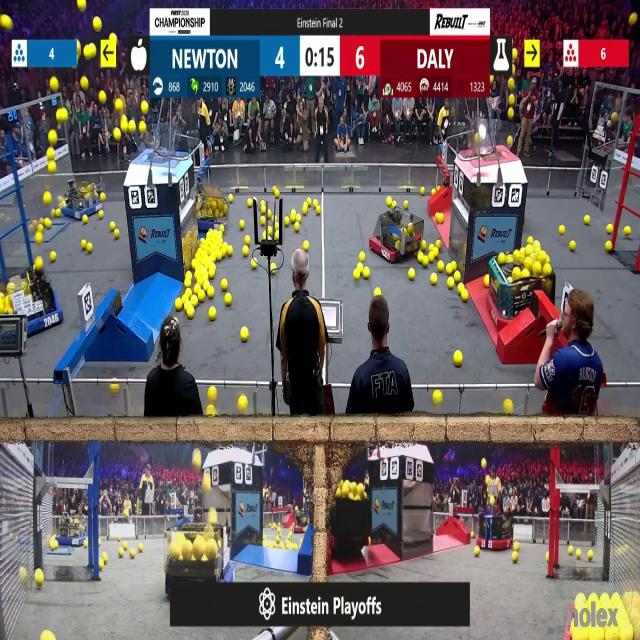ball_airborne: (203, 476, 212, 494), (194, 448, 202, 466), (209, 510, 218, 526), (58, 108, 68, 122), (49, 76, 58, 90), (1, 14, 10, 28), (48, 131, 56, 146), (90, 43, 98, 57), (113, 129, 121, 142), (35, 256, 43, 269), (129, 119, 137, 132), (94, 19, 102, 32), (46, 147, 54, 159), (47, 162, 55, 174), (99, 92, 107, 104), (80, 77, 88, 89), (630, 12, 638, 24), (108, 34, 116, 46), (115, 99, 122, 112), (139, 120, 146, 132), (120, 116, 126, 130), (77, 0, 85, 10), (512, 47, 518, 60), (36, 234, 43, 245), (507, 108, 513, 120), (142, 102, 148, 114), (44, 191, 50, 203), (507, 78, 514, 88), (507, 96, 514, 106), (482, 458, 488, 469), (472, 135, 479, 144), (506, 137, 512, 146), (485, 477, 491, 485), (490, 496, 495, 504), (512, 64, 515, 75), (490, 75, 494, 82)
ball_ground: (35, 569, 44, 586), (503, 401, 512, 417), (238, 396, 248, 410), (432, 391, 441, 405), (208, 387, 217, 401), (454, 351, 462, 366), (241, 327, 249, 341), (447, 263, 455, 275), (209, 308, 216, 321), (42, 631, 52, 640), (208, 269, 216, 280), (224, 293, 231, 305), (186, 307, 193, 319), (175, 300, 182, 312), (430, 274, 437, 286), (439, 262, 446, 274), (190, 294, 197, 305), (207, 407, 214, 418), (50, 538, 57, 549), (199, 291, 206, 302), (513, 552, 519, 564), (461, 290, 467, 302), (362, 269, 369, 279), (243, 246, 250, 256), (354, 271, 361, 281), (448, 278, 455, 288), (606, 223, 613, 233), (454, 273, 461, 283), (435, 212, 442, 222), (191, 284, 198, 294), (259, 205, 266, 215), (421, 241, 428, 251), (485, 276, 491, 287), (221, 280, 227, 291), (208, 287, 214, 298), (110, 384, 118, 392), (259, 216, 266, 225), (457, 283, 464, 292), (410, 270, 416, 280), (226, 246, 232, 256), (570, 241, 576, 251), (473, 545, 479, 555), (559, 224, 565, 234), (49, 252, 55, 262), (605, 242, 611, 252), (304, 241, 310, 251), (358, 252, 364, 262), (625, 225, 631, 235), (99, 560, 105, 570), (270, 264, 276, 274), (44, 218, 50, 228), (216, 251, 222, 261), (433, 248, 439, 258), (38, 221, 44, 231), (184, 287, 191, 295), (184, 279, 191, 287), (259, 234, 266, 242), (375, 287, 381, 296), (585, 215, 591, 224), (80, 241, 86, 250), (386, 198, 392, 207), (131, 550, 137, 559), (284, 217, 290, 226), (303, 206, 309, 215), (110, 221, 116, 230), (56, 209, 62, 218), (244, 237, 250, 246), (589, 552, 594, 562), (88, 243, 93, 253), (418, 252, 423, 262), (103, 553, 108, 563), (290, 210, 295, 220), (82, 215, 88, 223), (293, 222, 299, 230), (185, 272, 191, 280), (435, 240, 441, 248), (204, 281, 210, 289), (268, 210, 274, 218), (274, 232, 280, 240), (100, 192, 106, 200), (316, 207, 321, 216), (118, 550, 123, 559), (114, 231, 119, 240), (568, 545, 573, 554), (269, 225, 274, 234), (423, 255, 428, 264), (358, 264, 363, 273), (275, 190, 281, 197), (420, 187, 426, 194), (99, 211, 104, 219), (240, 220, 245, 228), (139, 543, 144, 551), (576, 550, 580, 560), (247, 200, 252, 208), (83, 539, 88, 547), (515, 542, 520, 550), (391, 200, 396, 208), (191, 261, 195, 271), (313, 200, 318, 208), (122, 540, 127, 548), (367, 536, 371, 546), (295, 215, 300, 222), (227, 194, 232, 201), (252, 263, 256, 271), (403, 202, 407, 210), (220, 224, 224, 232), (528, 237, 532, 245), (275, 214, 279, 222), (123, 512, 128, 518), (119, 538, 123, 545), (431, 188, 435, 195), (277, 538, 281, 545), (275, 222, 279, 228), (545, 554, 548, 562), (473, 533, 476, 540), (99, 540, 102, 546)
goal: (126, 128, 186, 160), (466, 125, 520, 160)
robot_blue: (6, 269, 64, 334), (64, 178, 102, 220), (196, 186, 229, 232), (56, 516, 87, 548)
robot_red: (484, 240, 552, 333), (326, 480, 374, 571), (372, 206, 419, 262), (478, 513, 516, 550)
